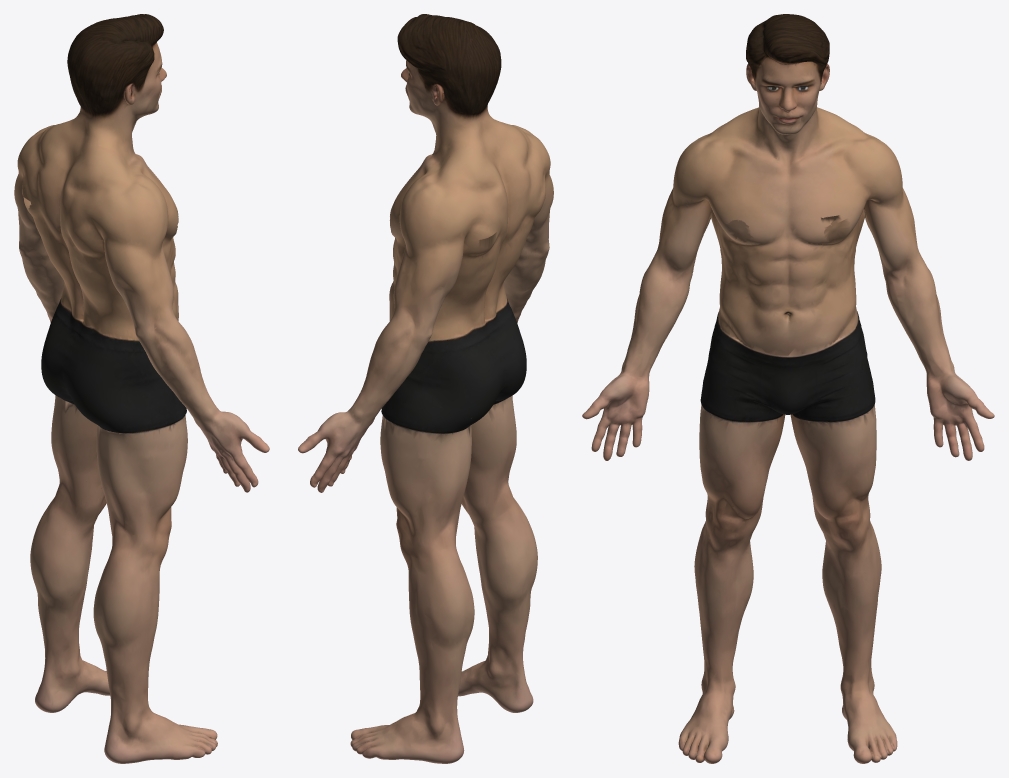
The model's file is body.glb.
3 views of the same model, side by side, from view 1: azimuth 30°, elevation 25°; view 2: azimuth 150°, elevation 25°; view 3: azimuth 270°, elevation 25° (orthographic).
Visible parts, largest first — view 1: tripo_node_3773f2f5-c201-4bd6-905f-09da226c5b32; view 2: tripo_node_3773f2f5-c201-4bd6-905f-09da226c5b32; view 3: tripo_node_3773f2f5-c201-4bd6-905f-09da226c5b32.
Boxes of the visible parts, box(x1,y1,x2,y2) form: tripo_node_3773f2f5-c201-4bd6-905f-09da226c5b32: box(14, 14, 269, 763); tripo_node_3773f2f5-c201-4bd6-905f-09da226c5b32: box(298, 14, 553, 763); tripo_node_3773f2f5-c201-4bd6-905f-09da226c5b32: box(582, 14, 994, 763).
Size of the model in its own units: 0.1901 by 1 by 0.5204.
Materials: 1 (1 with a texture image).
